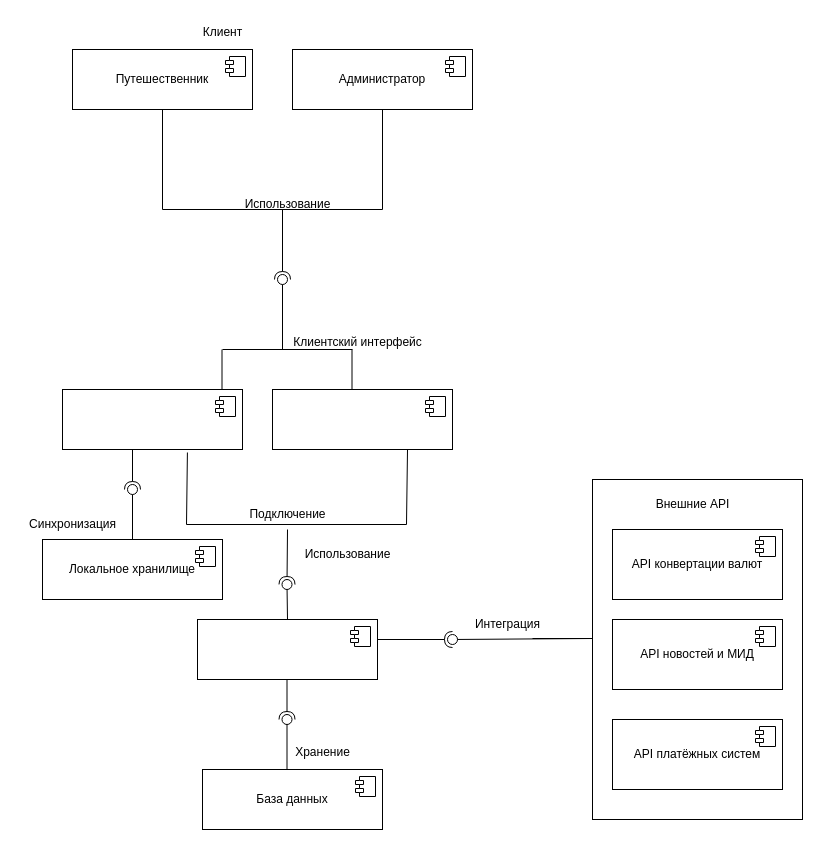
Image size: 820x847. Some labels were removed from this diagram. Each missing label, with the centre of its shape:
Веб-сайт: pixel 362 419
Мобильно приложение: pixel 152 419
Сервер: pixel 287 649
